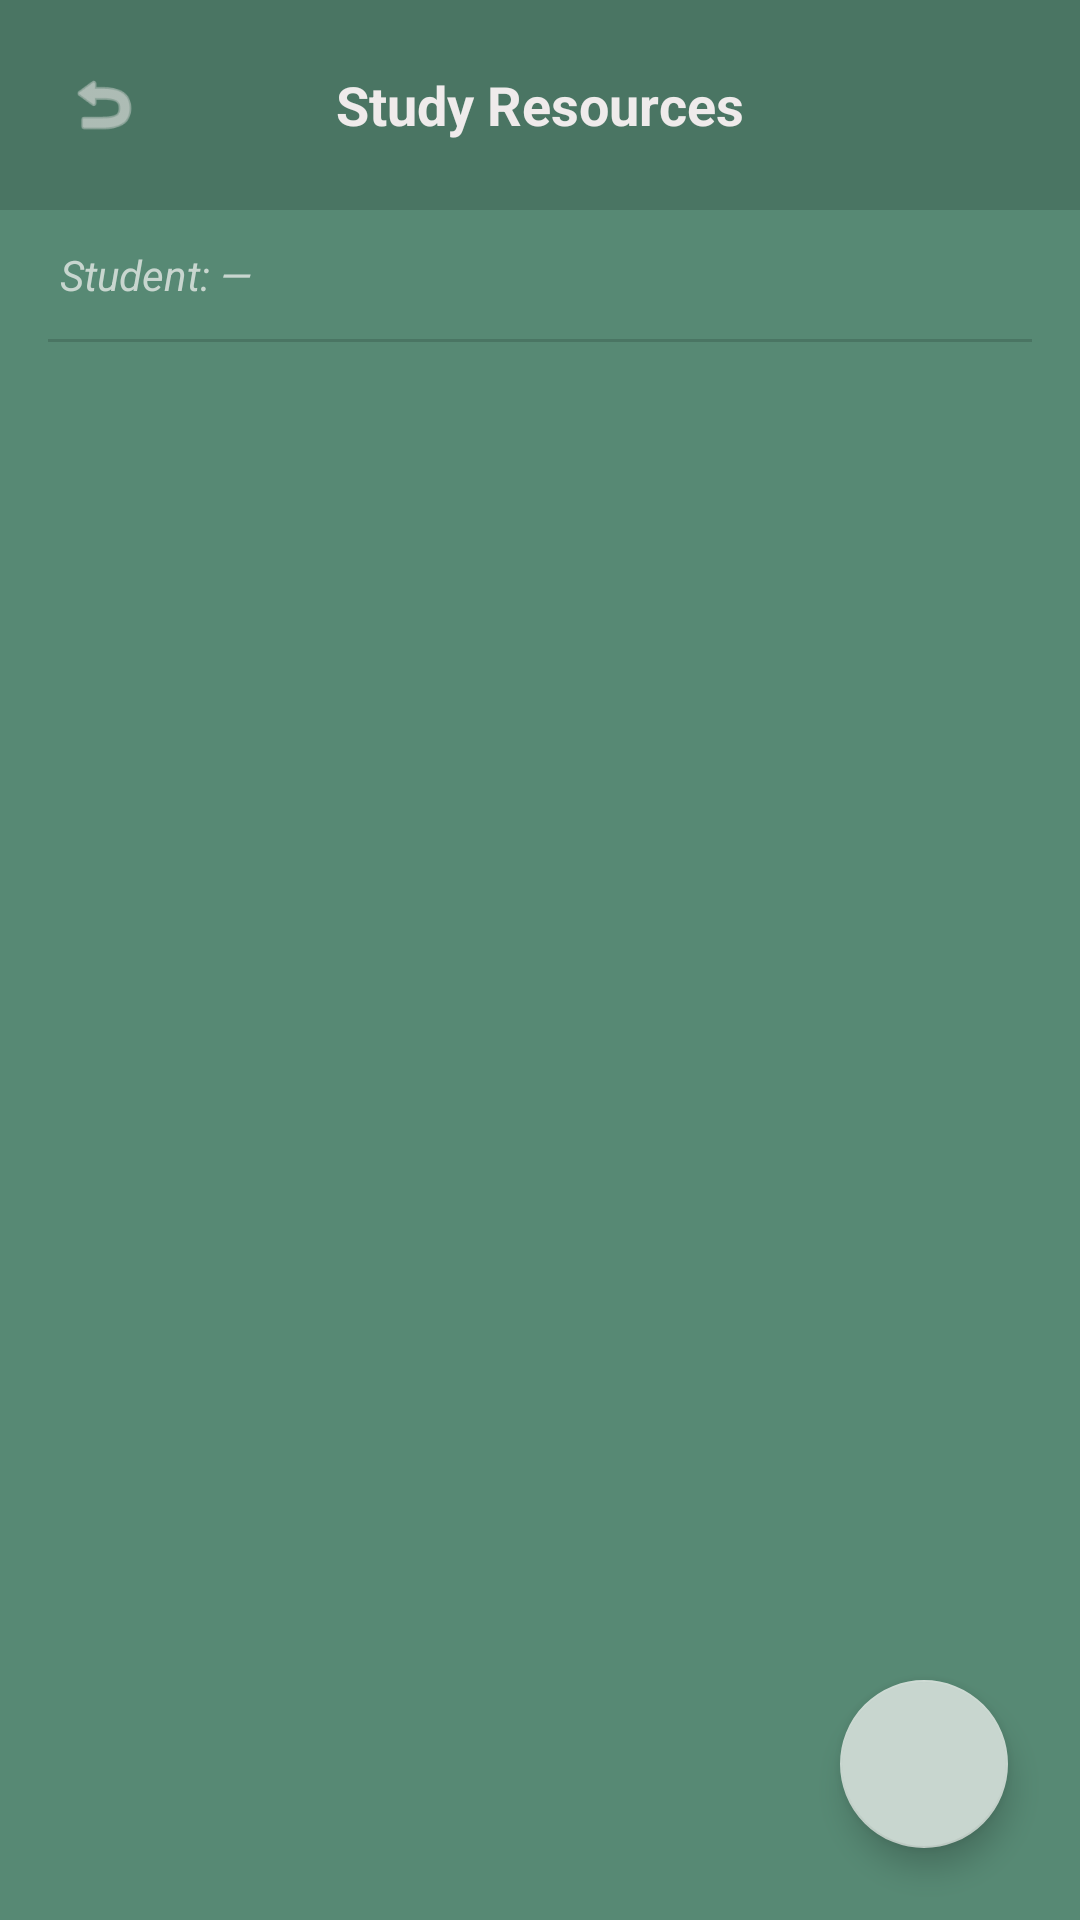

Icon bounding boxes for this 1080 x 1920 phone screenshot, format (x1, y1, x2, y2):
Back: (78, 81, 131, 129)
